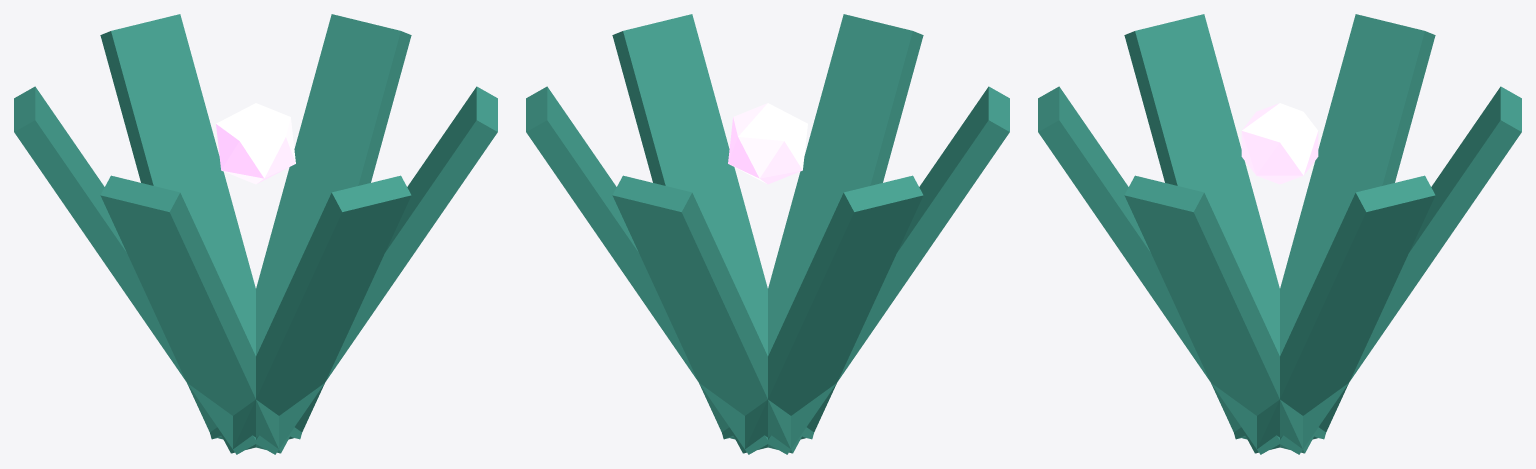
The model's file is fougere_modele.glb.
3 views of the same model, side by side, from view 1: azimuth 30°, elevation 25°; view 2: azimuth 150°, elevation 25°; view 3: azimuth 270°, elevation 25° (orthographic).
Visible parts, largest first — view 1: P4.018, P3.012, P1.016, P6.017, P2.016, P5.009, P7.017; view 2: P1.016, P2.016, P5.009, P4.018, P6.017, P3.012, P7.017; view 3: P5.009, P6.017, P3.012, P2.016, P4.018, P1.016, P7.017.
Part boxes in pixels (x1=…): P4.018: x1=100, y1=14, x2=255, y2=439; P3.012: x1=256, y1=14, x2=411, y2=439; P1.016: x1=220, y1=175, x2=411, y2=453; P6.017: x1=100, y1=175, x2=290, y2=453; P2.016: x1=254, y1=86, x2=497, y2=454; P5.009: x1=14, y1=86, x2=255, y2=454; P7.017: x1=216, y1=103, x2=295, y2=184; P1.016: x1=768, y1=14, x2=923, y2=439; P2.016: x1=612, y1=14, x2=767, y2=439; P5.009: x1=732, y1=175, x2=923, y2=453; P4.018: x1=612, y1=175, x2=802, y2=453; P6.017: x1=766, y1=86, x2=1009, y2=454; P3.012: x1=526, y1=86, x2=767, y2=454; P7.017: x1=728, y1=103, x2=807, y2=184; P5.009: x1=1280, y1=14, x2=1435, y2=439; P6.017: x1=1124, y1=14, x2=1279, y2=439; P3.012: x1=1244, y1=175, x2=1435, y2=453; P2.016: x1=1124, y1=175, x2=1314, y2=453; P4.018: x1=1278, y1=86, x2=1521, y2=454; P1.016: x1=1038, y1=86, x2=1279, y2=454; P7.017: x1=1241, y1=103, x2=1318, y2=184.
Bounding box in the file's own units: 0.459 × 0.3697 × 0.4838.
